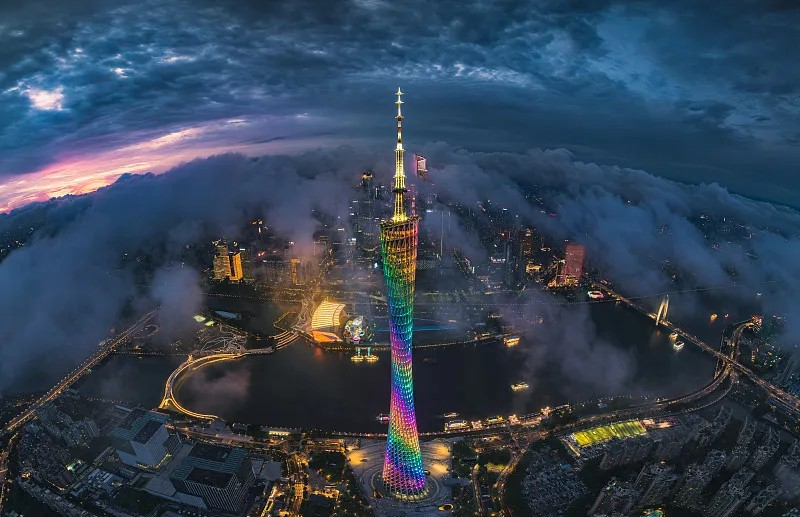Canton: (377, 83, 432, 501)
